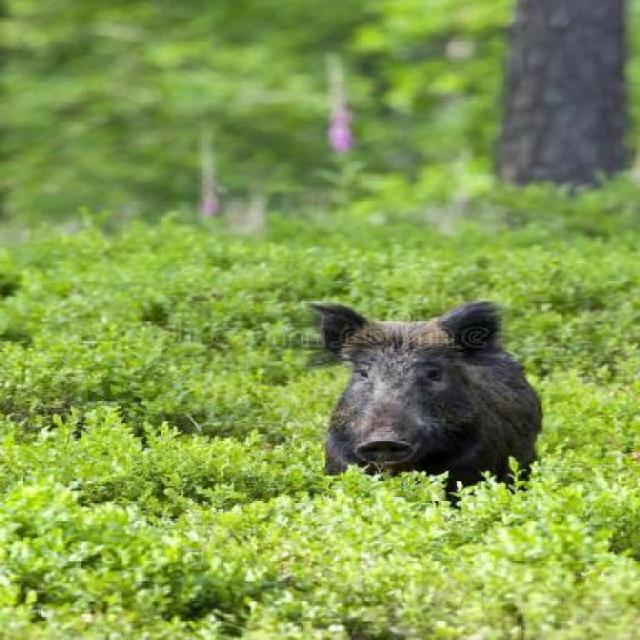wildboar: (298, 294, 554, 532)
